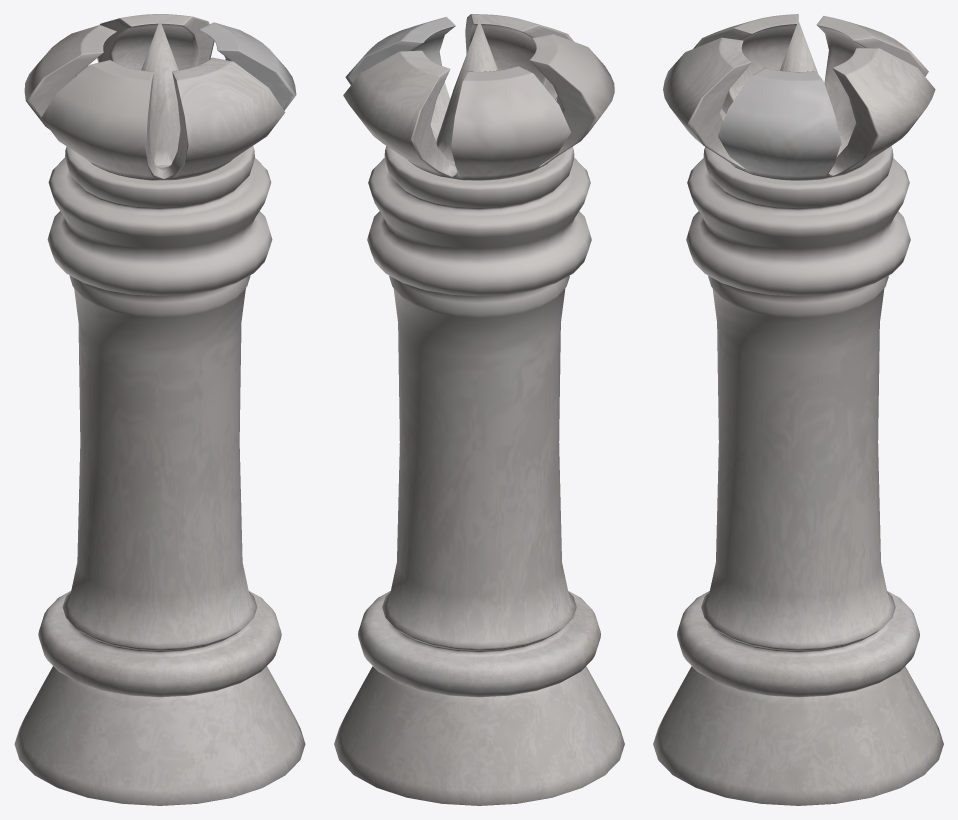
Rendered from king_white.obj.
The picture shows the model from 3 angles, left to right: view 1: azimuth 30°, elevation 25°; view 2: azimuth 150°, elevation 25°; view 3: azimuth 270°, elevation 25°; orthographic projection.
Parts seen in each view (by area): view 1: king_Cylinder.010; view 2: king_Cylinder.010; view 3: king_Cylinder.010.
Boxes of the visible parts, x1=… form: king_Cylinder.010: x1=14, y1=14, x2=305, y2=805; king_Cylinder.010: x1=334, y1=14, x2=624, y2=805; king_Cylinder.010: x1=653, y1=14, x2=943, y2=805.
Bounding box in the file's own units: 0.9172 × 2.52 × 0.9172.
1 material, 1 textured.
